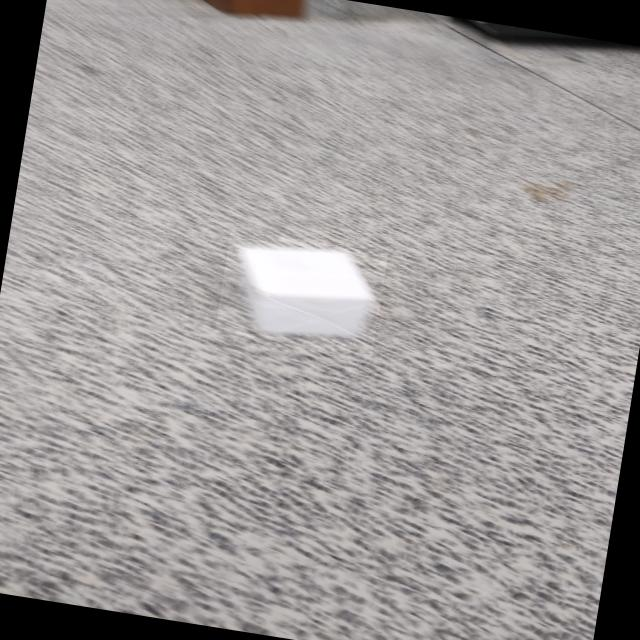bale: (228, 247, 380, 341)
